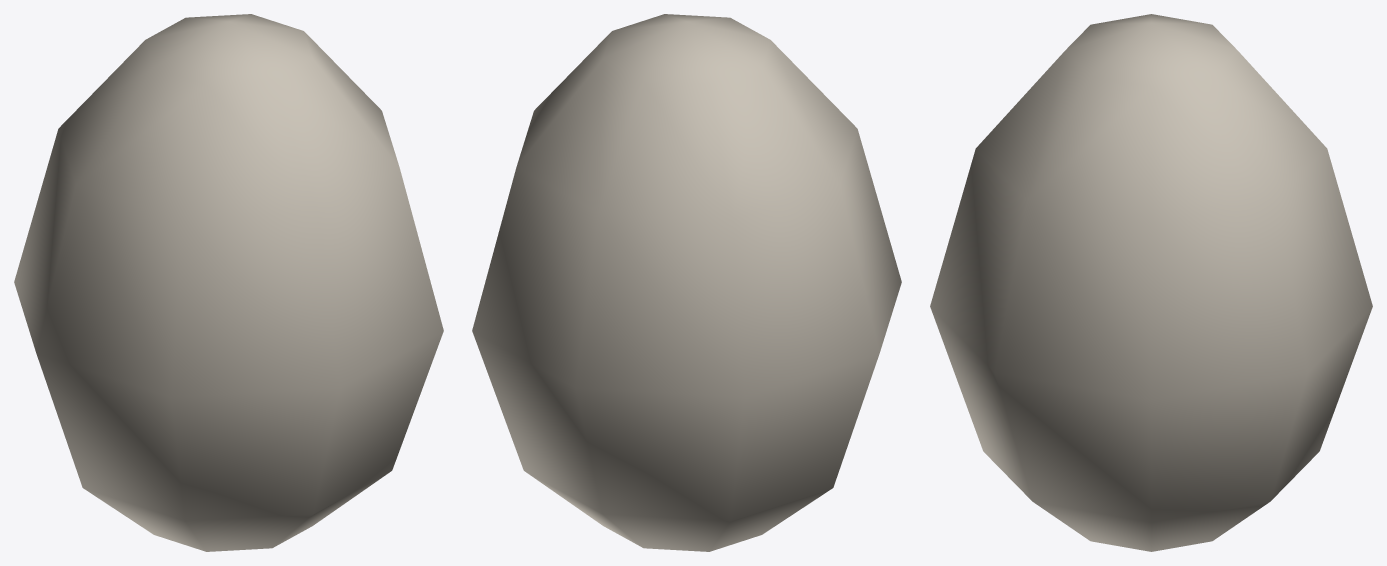
Rendered from Egg_01.fbx.
3 renders of one model, left to right at view 1: azimuth 30°, elevation 25°; view 2: azimuth 150°, elevation 25°; view 3: azimuth 270°, elevation 25°, orthographic.
Parts seen in each view (by area): view 1: Egg_01; view 2: Egg_01; view 3: Egg_01.
Part boxes in pixels (box(x1,y1,x2,y2)): Egg_01: box(14, 14, 443, 551); Egg_01: box(472, 14, 901, 551); Egg_01: box(930, 14, 1372, 551).
Size of the model in its own units: 0.0695 by 0.0879 by 0.0695.
